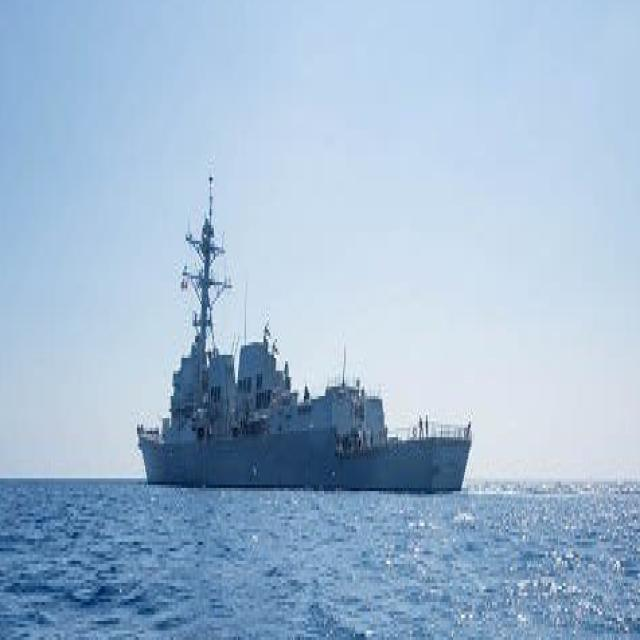navalvessels: (133, 160, 482, 510)
